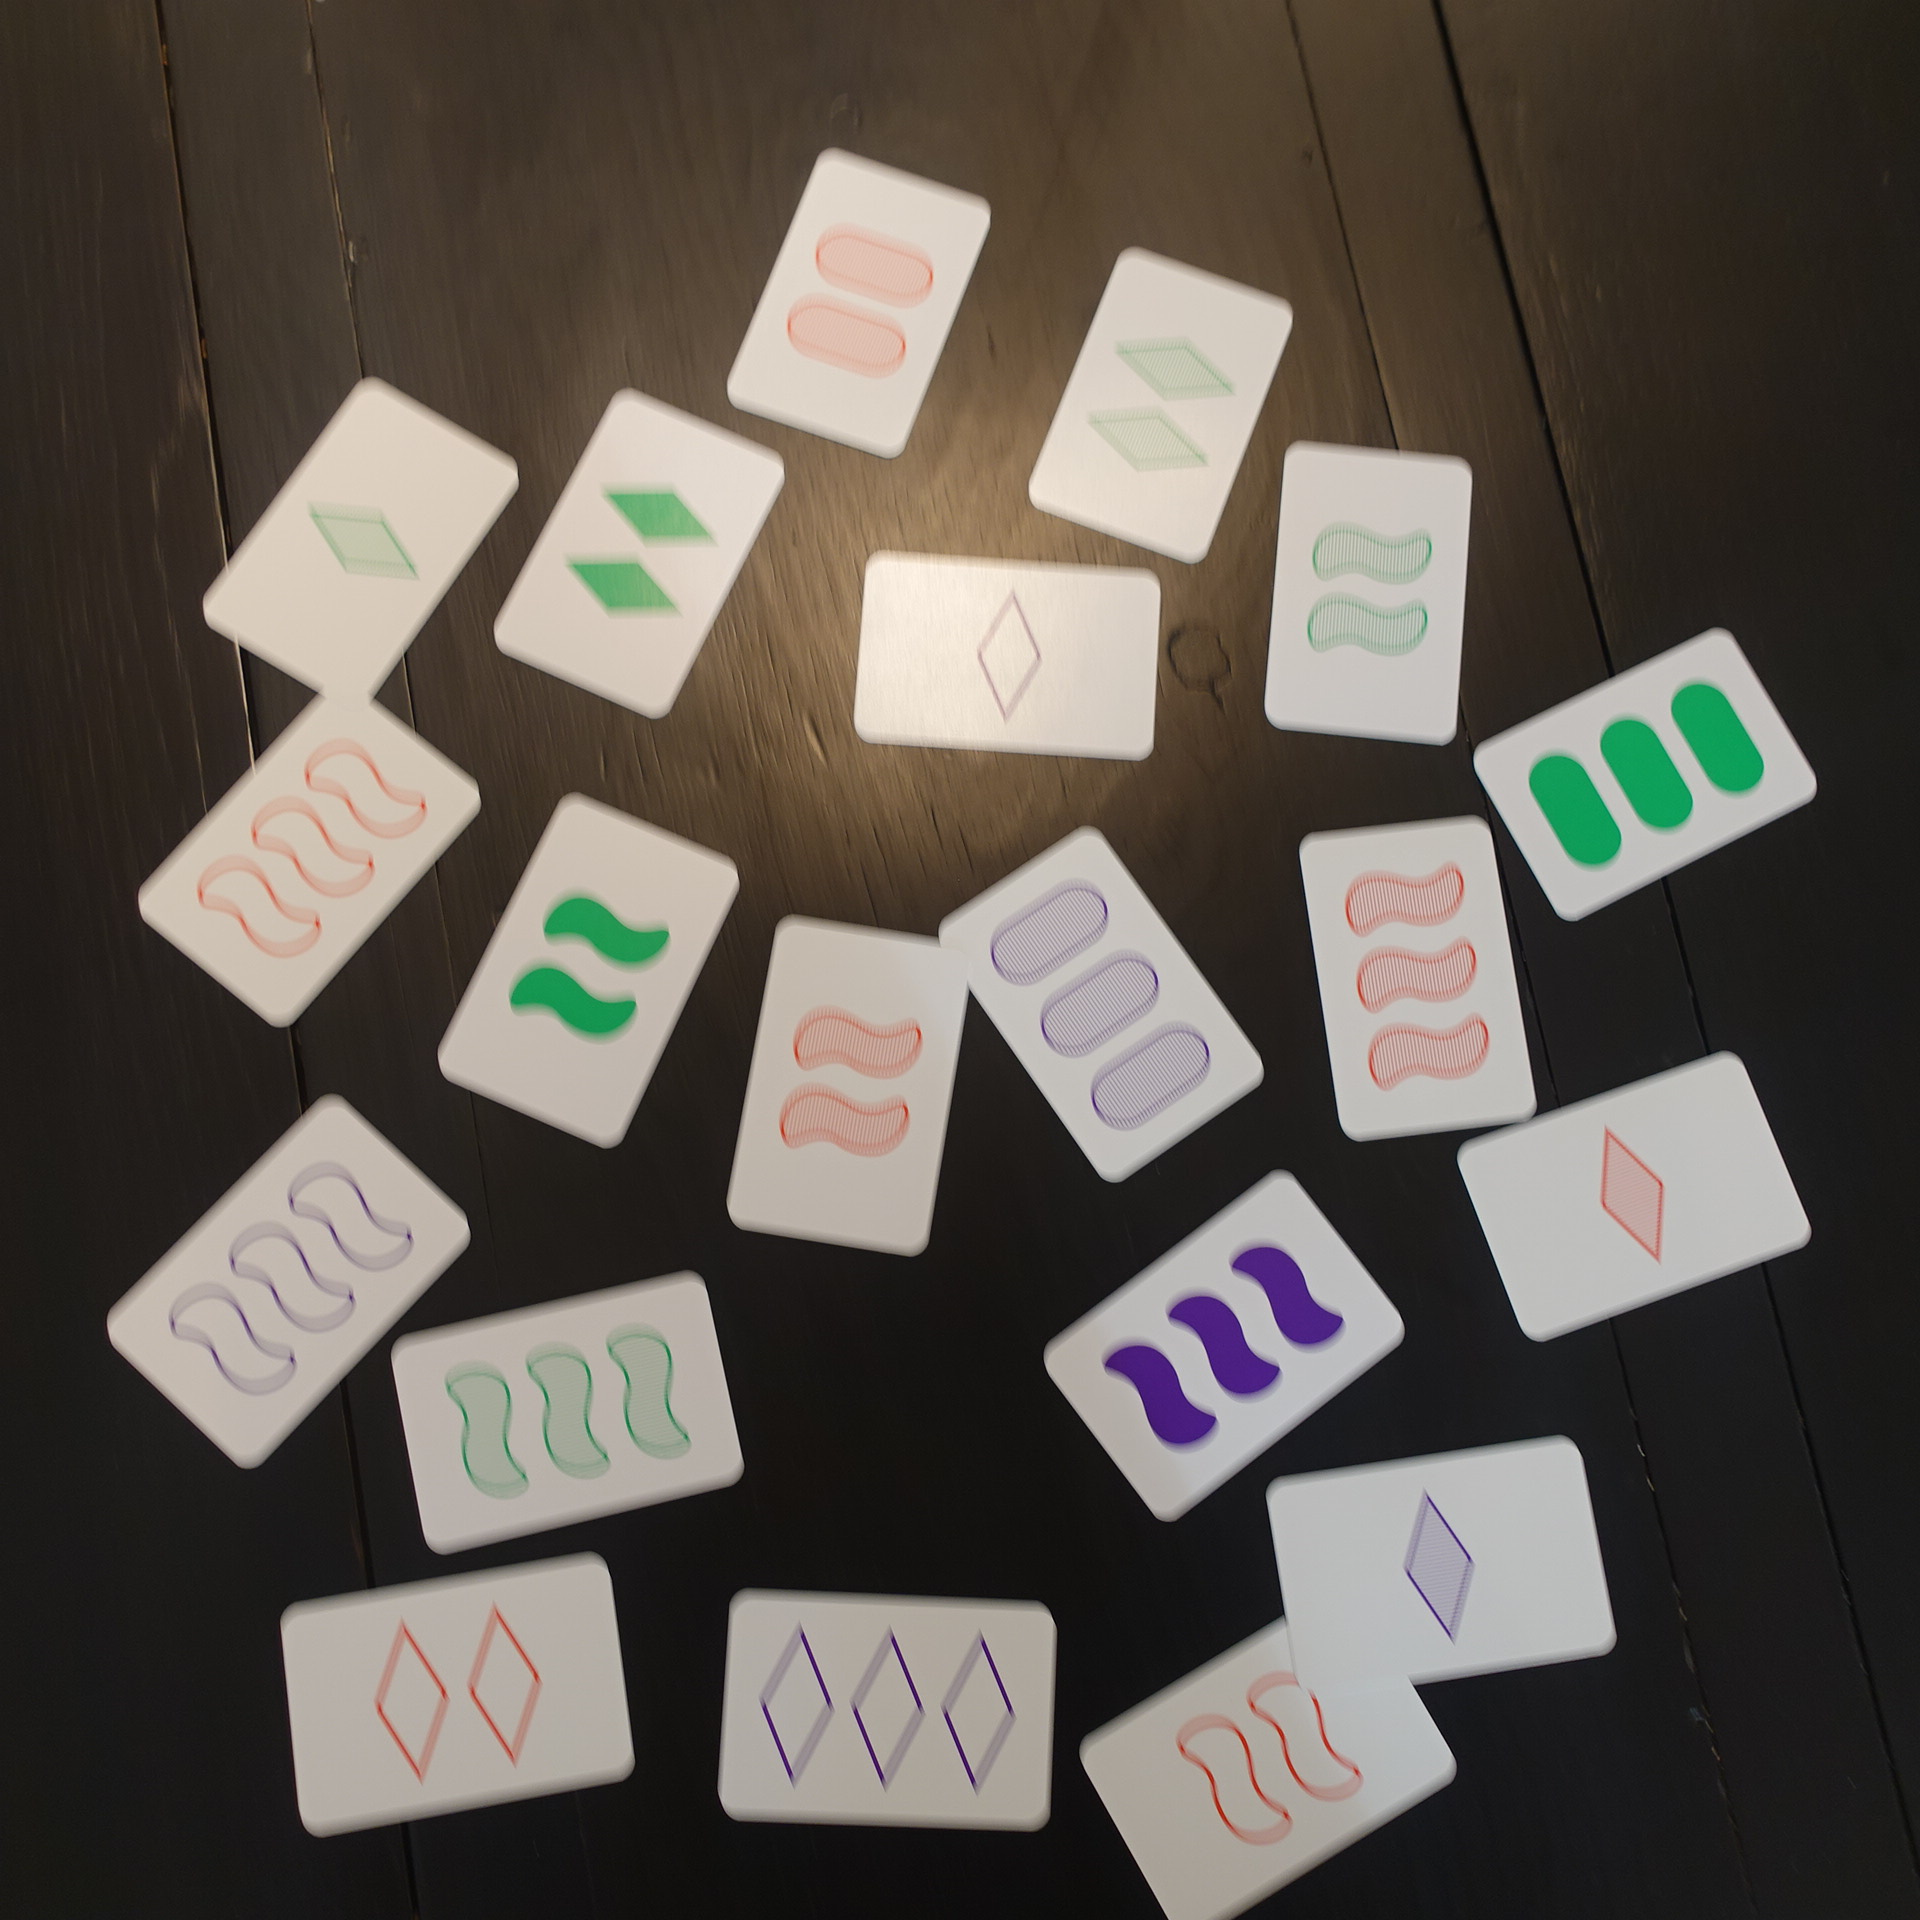c-1-h-d-g: (192, 369, 529, 714)
c-1-h-d-p: (1257, 1429, 1626, 1700)
c-1-h-d-r: (1452, 1039, 1820, 1347)
c-1-u-d-p: (844, 543, 1173, 772)
c-2-f-d-g: (427, 782, 751, 1160), (484, 380, 795, 724)
c-2-h-d-g: (1020, 237, 1308, 577), (1257, 436, 1487, 756)
c-2-h-d-r: (717, 905, 972, 1268)
c-2-h-o-r: (721, 141, 999, 464)
c-2-u-d-r: (269, 1549, 647, 1846)
c-2-u-s-r: (1073, 1595, 1468, 1920)
c-3-f-d-p: (1034, 1162, 1414, 1533)
c-3-f-o-g: (1465, 619, 1834, 935)
c-3-h-d-g: (380, 1264, 756, 1561)
c-3-h-d-r: (1287, 812, 1544, 1148)
c-3-h-o-p: (935, 818, 1271, 1190)
c-3-u-d-p: (93, 1081, 478, 1482), (705, 1581, 1067, 1841)
c-3-u-d-r: (127, 675, 489, 1037)
